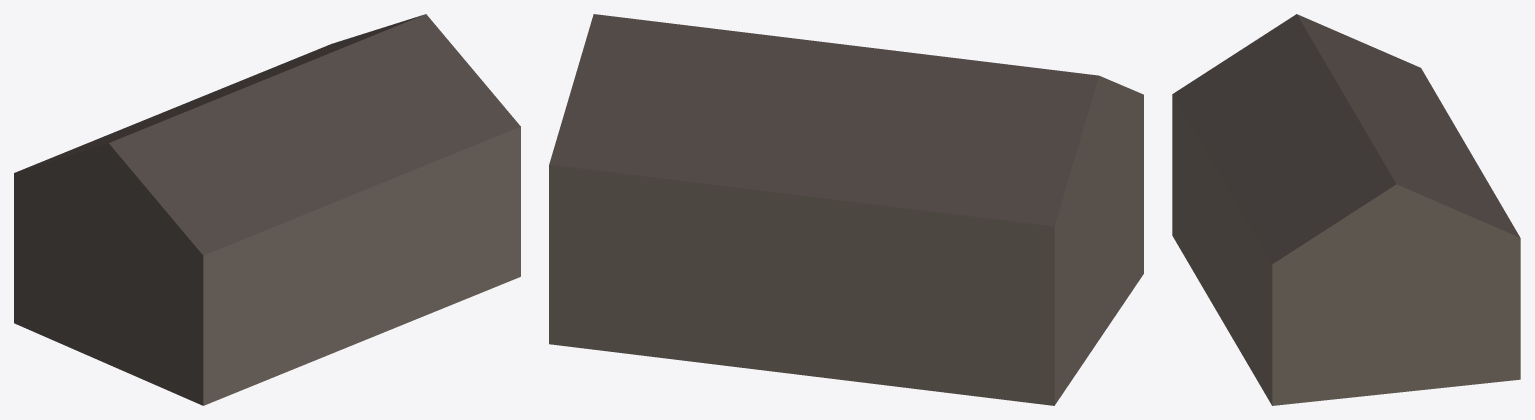
3 renders of one model, left to right at view 1: azimuth 30°, elevation 25°; view 2: azimuth 150°, elevation 25°; view 3: azimuth 270°, elevation 25°, orthographic. The views are drawn at different scales.
Visible parts, largest first — view 1: HP-w408450685; view 2: HP-w408450685; view 3: HP-w408450685.
Part boxes in pixels (bbox=[...]): HP-w408450685: bbox=[14, 14, 520, 405]; HP-w408450685: bbox=[549, 14, 1143, 405]; HP-w408450685: bbox=[1172, 14, 1520, 405].
Bounding box in the file's own units: 17.88 × 8.84 × 13.38.
